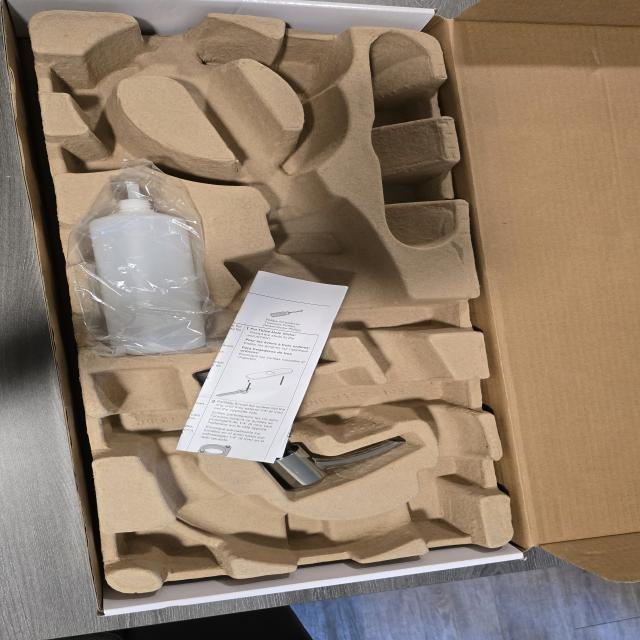1m: (92, 16, 488, 563)
2o: (195, 367, 403, 492)
3: (84, 180, 212, 355)
4m: (368, 34, 458, 249)
5m: (278, 48, 334, 97)
6m: (47, 41, 149, 110)
7m: (57, 116, 192, 179)
8: (177, 270, 348, 461)
